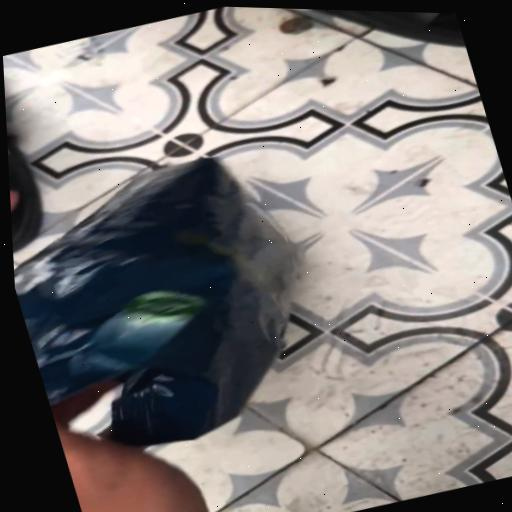cafe_hat: (14, 158, 295, 446)
